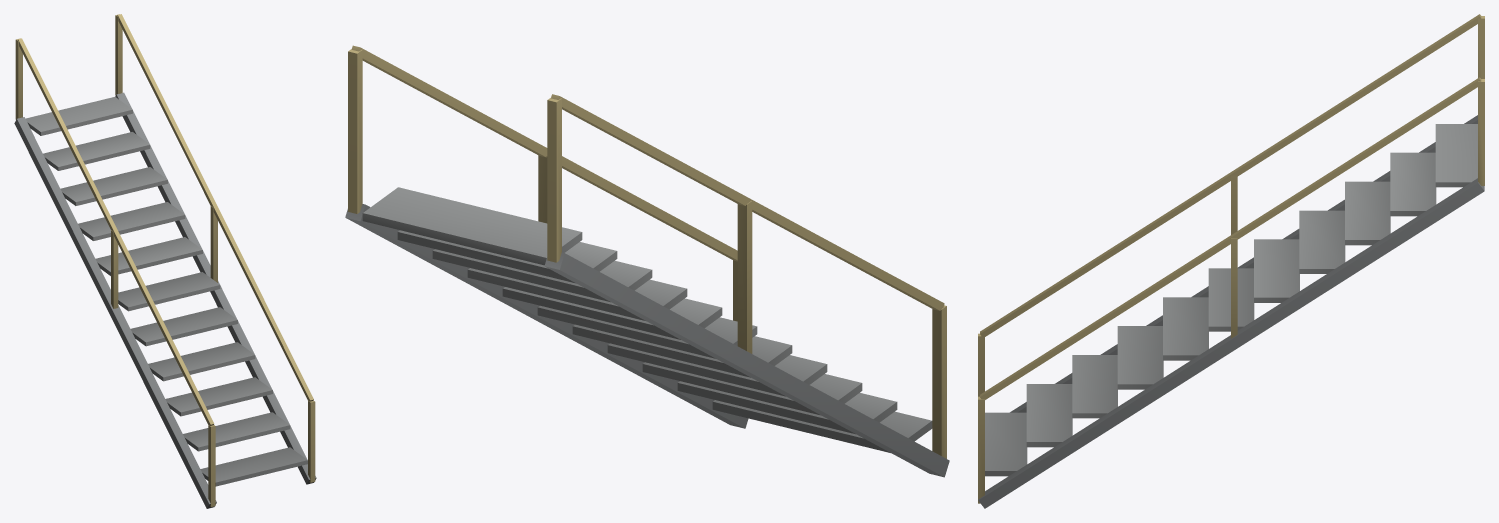
The model's file is mil_stairs.glb.
The picture shows the model from 3 angles, left to right: view 1: azimuth 30°, elevation 25°; view 2: azimuth 150°, elevation 25°; view 3: azimuth 270°, elevation 25°; orthographic projection. The views are drawn at different scales.
Parts seen in each view (by area): view 1: mil_stairs; view 2: mil_stairs; view 3: mil_stairs.
Boxes of the visible parts, x1,y1,x2,y2 form: mil_stairs: [14, 14, 316, 508]; mil_stairs: [345, 45, 949, 477]; mil_stairs: [978, 14, 1484, 508].
Bounding box in the file's own units: 1.4 × 4.11 × 4.41.
